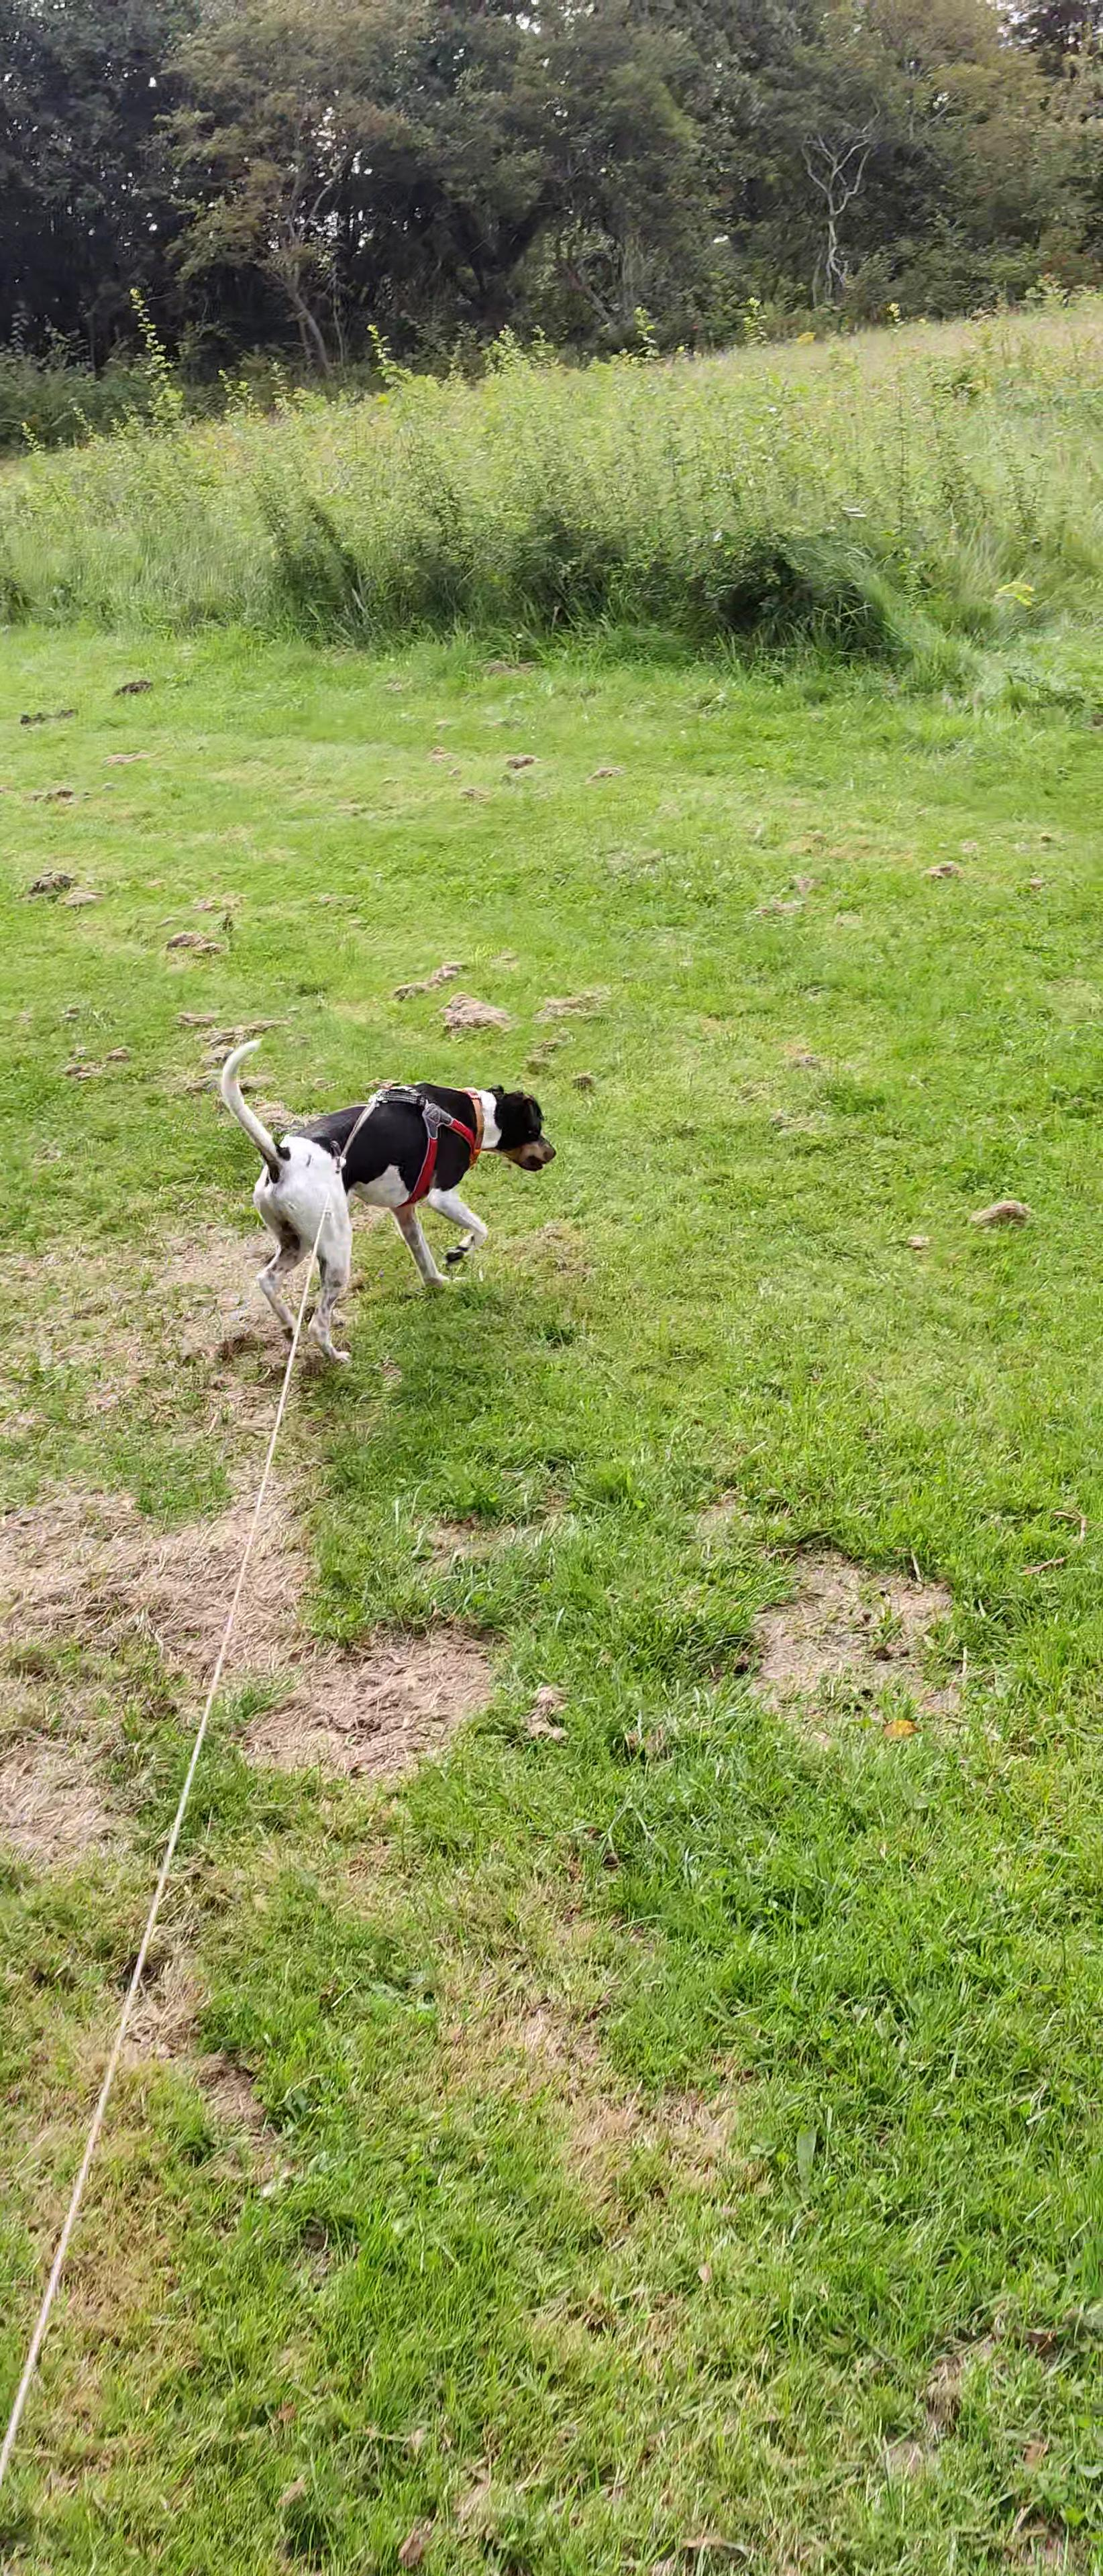Dog: (212, 1033, 574, 1372)
